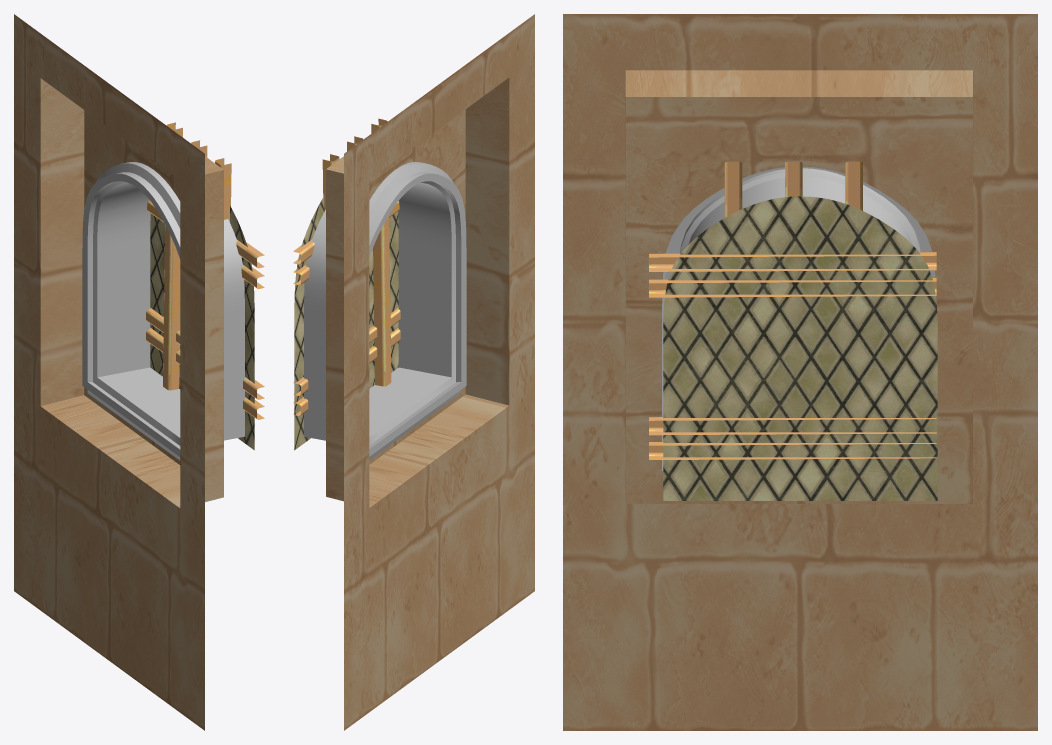
Rendered from SM_Wall_Window_02.fbx.
3 views of the same model, side by side, from view 1: azimuth 30°, elevation 25°; view 2: azimuth 150°, elevation 25°; view 3: azimuth 270°, elevation 25° (orthographic). The views are drawn at different scales.
Parts seen in each view (by area): view 1: SM_Wall_Window_02_LOD0; view 2: SM_Wall_Window_02_LOD0; view 3: SM_Wall_Window_02_LOD0.
Boxes of the visible parts, <box> form: SM_Wall_Window_02_LOD0: <box>14,14,264,730</box>; SM_Wall_Window_02_LOD0: <box>293,14,534,730</box>; SM_Wall_Window_02_LOD0: <box>563,14,1037,730</box>.
Size of the model in its own units: 85.71 by 300 by 500.
